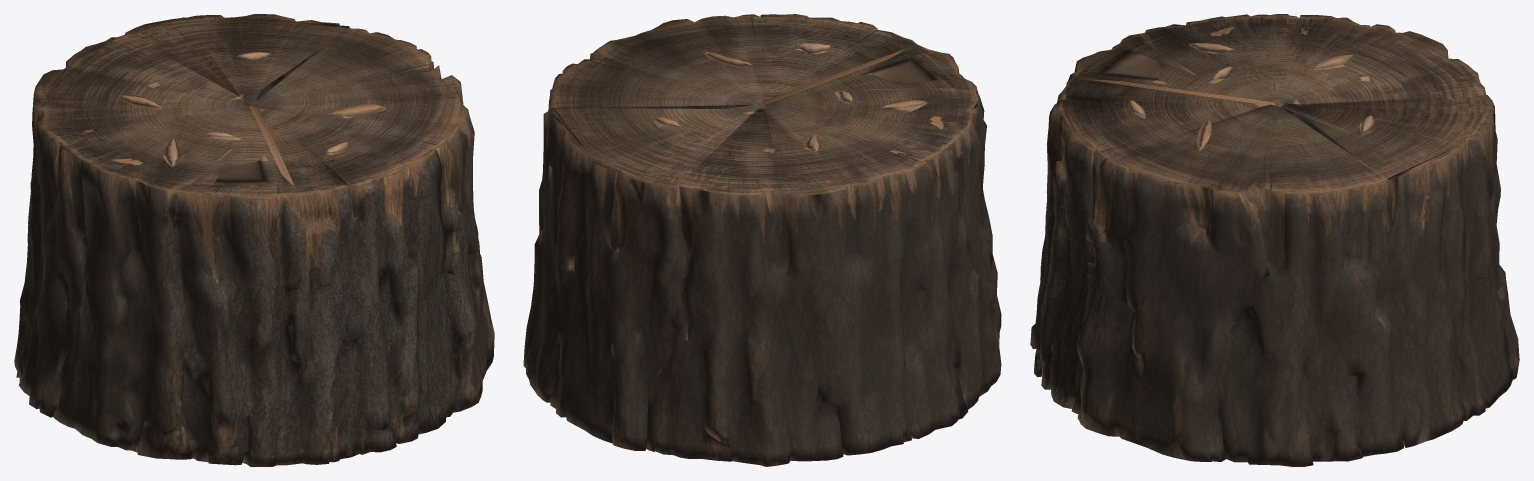
Rendered from chopping_stump_nj.glb.
The picture shows the model from 3 angles, left to right: view 1: azimuth 30°, elevation 25°; view 2: azimuth 150°, elevation 25°; view 3: azimuth 270°, elevation 25°; orthographic projection.
Size of the model in its own units: 0.9443 by 0.5781 by 0.958.
1 material, 1 textured.
